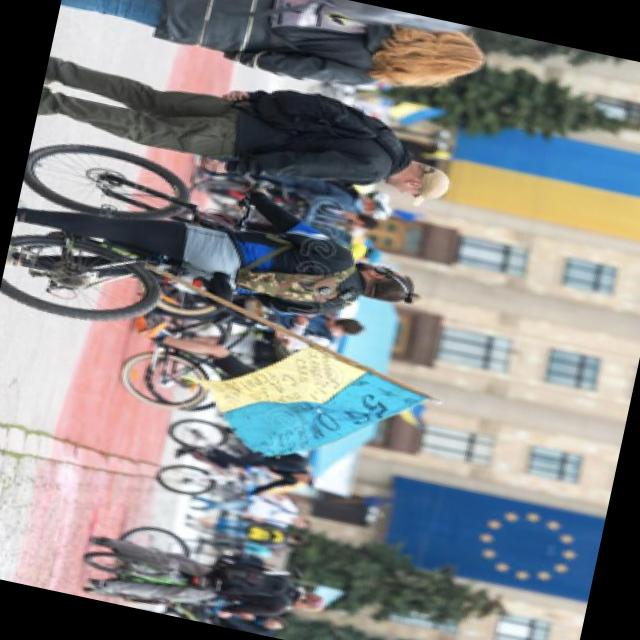bareface: (373, 146, 458, 216), (346, 258, 426, 314)
